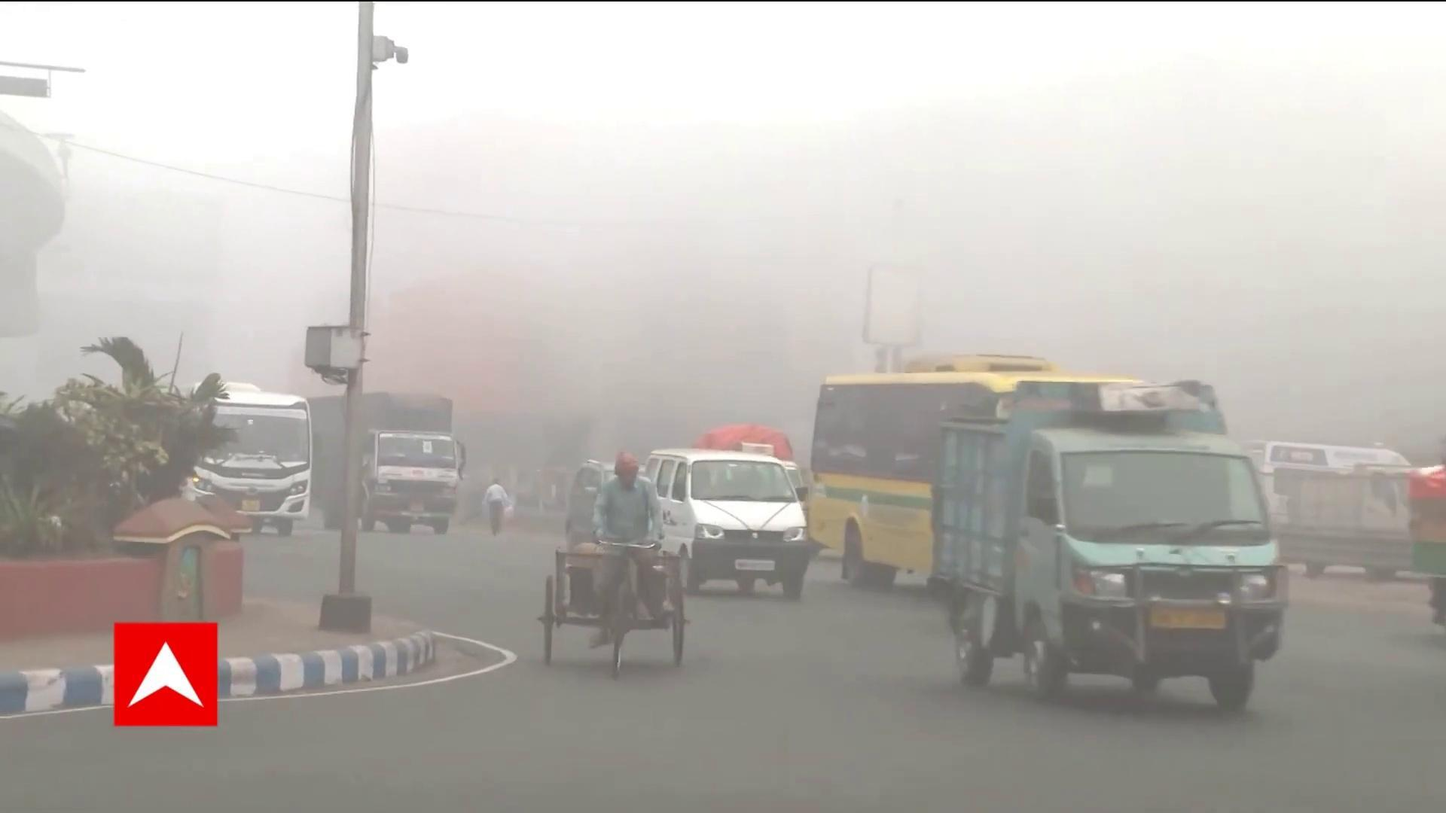Bus: (813, 366, 1233, 595), (192, 373, 318, 529)
Car: (644, 441, 811, 607)
Truck: (932, 382, 1289, 718), (316, 381, 465, 533)
